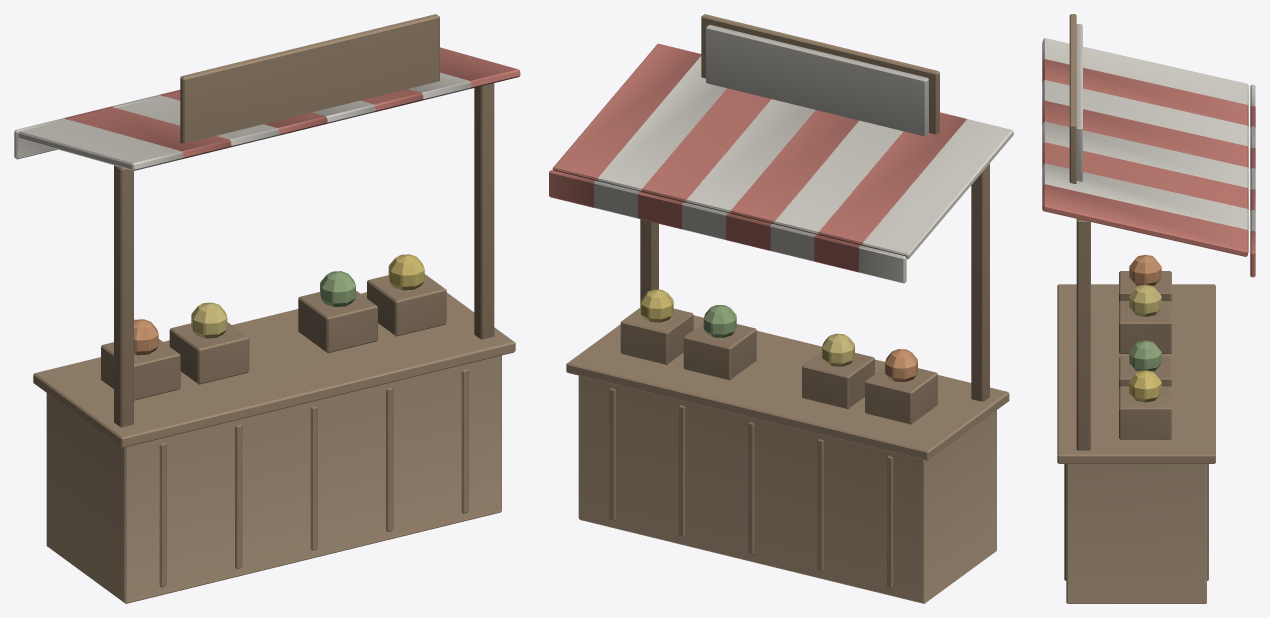
Rendered from event_stall.glb.
The picture shows the model from 3 angles, left to right: view 1: azimuth 30°, elevation 25°; view 2: azimuth 150°, elevation 25°; view 3: azimuth 270°, elevation 25°; orthographic projection. The views are drawn at different scales.
Bounding box in the file's own units: 2.3 × 2.84 × 1.21.
